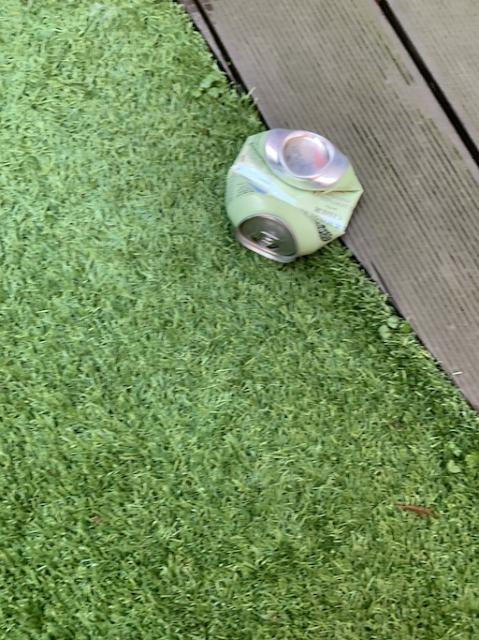metal: (225, 127, 362, 260)
